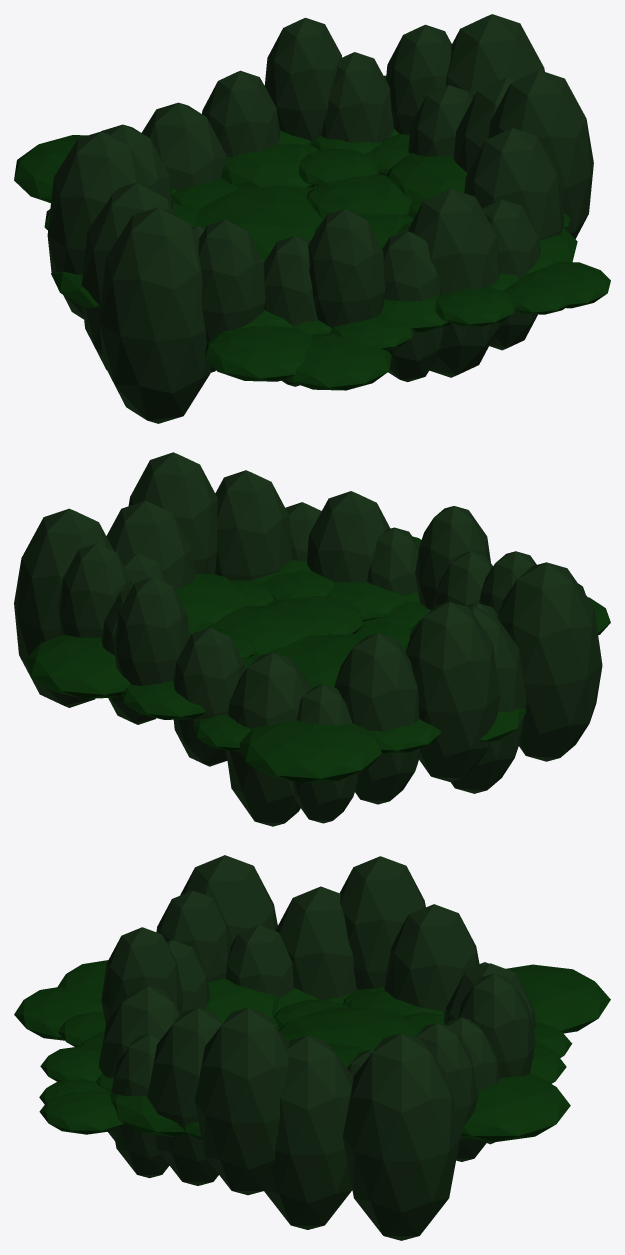
Rendered from autumn.obj.
3 views of the same model, one above another, from view 1: azimuth 30°, elevation 25°; view 2: azimuth 150°, elevation 25°; view 3: azimuth 270°, elevation 25° (orthographic). The views are drawn at different scales.
Parts seen in each view (by area): view 1: Icosphere.004, floor_Icosphere.011; view 2: Icosphere.004, floor_Icosphere.011; view 3: Icosphere.004, floor_Icosphere.011.
Part boxes in pixels (x1=…): Icosphere.004: x1=47, y1=14, x2=593, y2=423; floor_Icosphere.011: x1=14, y1=75, x2=610, y2=390; Icosphere.004: x1=14, y1=452, x2=602, y2=826; floor_Icosphere.011: x1=26, y1=536, x2=610, y2=783; Icosphere.004: x1=99, y1=855, x2=536, y2=1240; floor_Icosphere.011: x1=14, y1=960, x2=610, y2=1141.
Size of the model in its own units: 68.5 by 31.83 by 69.97.
